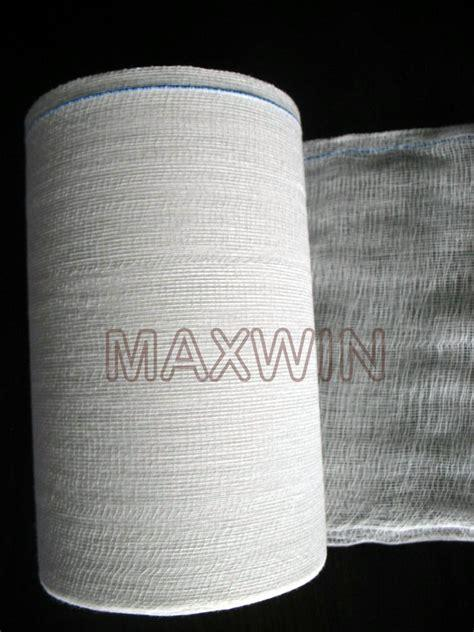gauze: (22, 66, 372, 618)
